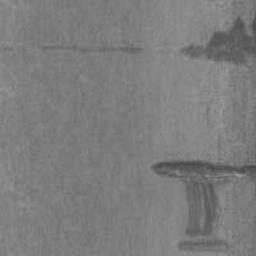Oil spot: (150, 159, 256, 253), (179, 13, 256, 65), (0, 37, 147, 58)
